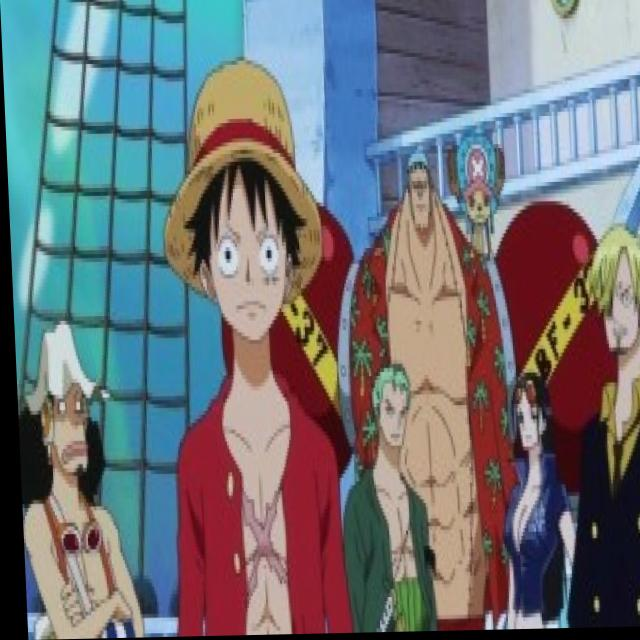Chyopa: (447, 119, 511, 269)
Franky: (404, 144, 430, 241)
Luffy: (144, 63, 334, 346)
NicoRobin: (505, 363, 559, 467)
Sangdi: (582, 224, 640, 367)
Usopp: (20, 319, 113, 496)
Zoro: (365, 355, 409, 455)
